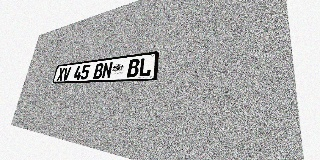plate: (52, 51, 160, 84)
